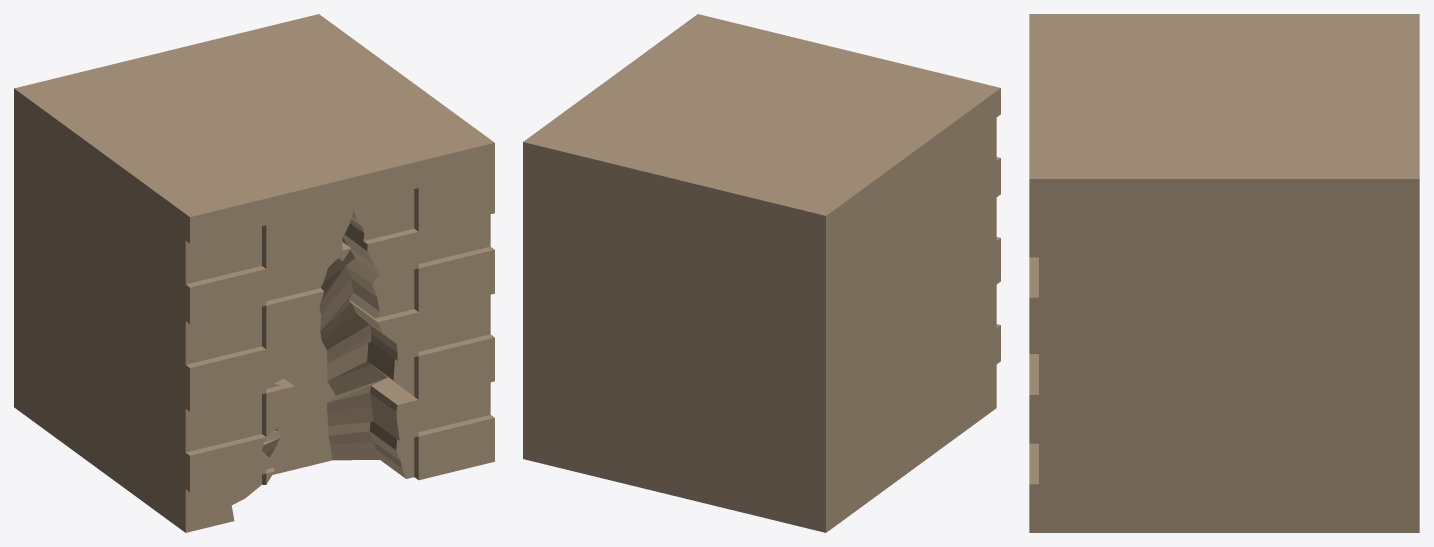
The model's file is outerWall_broken3.fbx.
3 views of the same model, side by side, from view 1: azimuth 30°, elevation 25°; view 2: azimuth 150°, elevation 25°; view 3: azimuth 270°, elevation 25° (orthographic). The views are drawn at different scales.
Visible parts, largest first — view 1: outerWall_broken3; view 2: outerWall_broken3; view 3: outerWall_broken3.
Part boxes in pixels (left/top/right/bottom): outerWall_broken3: left=14, top=14, right=494, bottom=532; outerWall_broken3: left=523, top=14, right=1000, bottom=532; outerWall_broken3: left=1029, top=14, right=1419, bottom=532.
Bounding box in the file's own units: 400 × 400 × 400.
